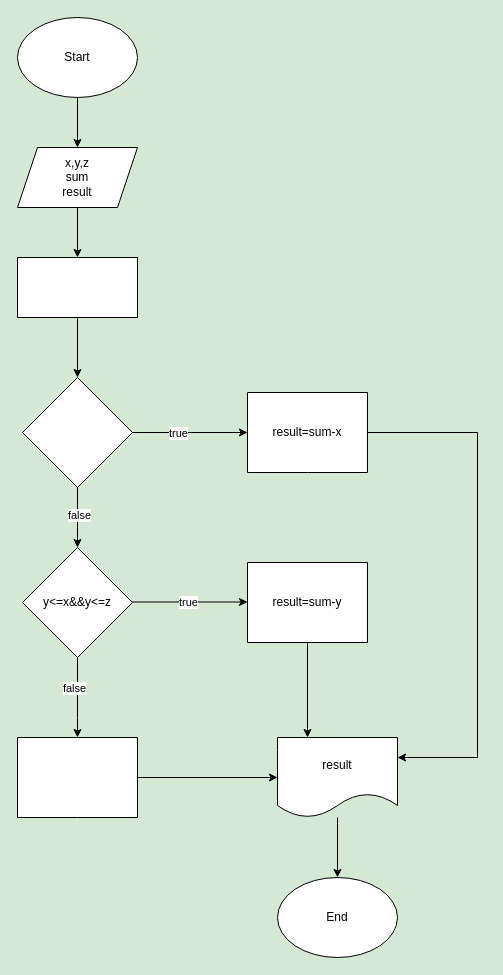
Image size: 503x975. Some labels were removed from this diagram. Here are the shapes that lost their labels. From the top down, the box of each, then its label:
(16, 256, 138, 318): sum=x+y+z
(22, 376, 132, 488): x<=y&&x<=z
(16, 736, 138, 818): result=sum-z
